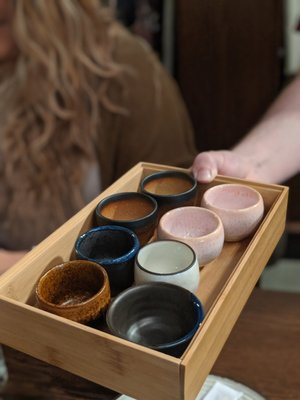sushi: (35, 259, 111, 325), (157, 206, 225, 269), (202, 184, 265, 243), (139, 170, 199, 207)
